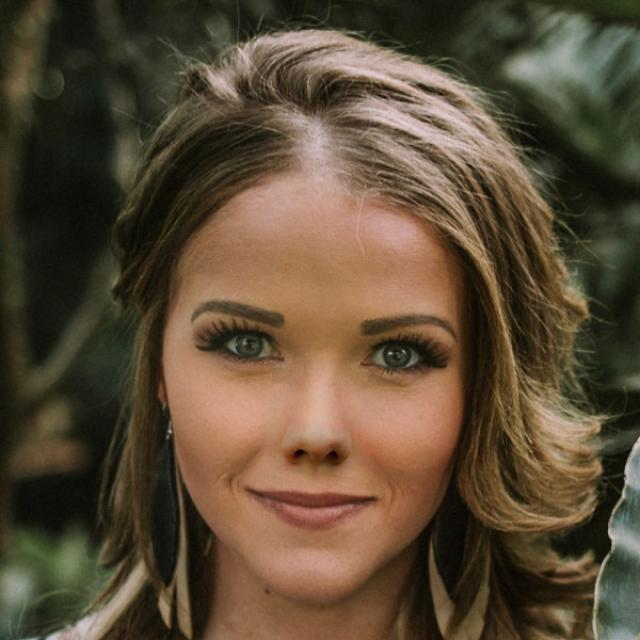face: (129, 122, 533, 623)
